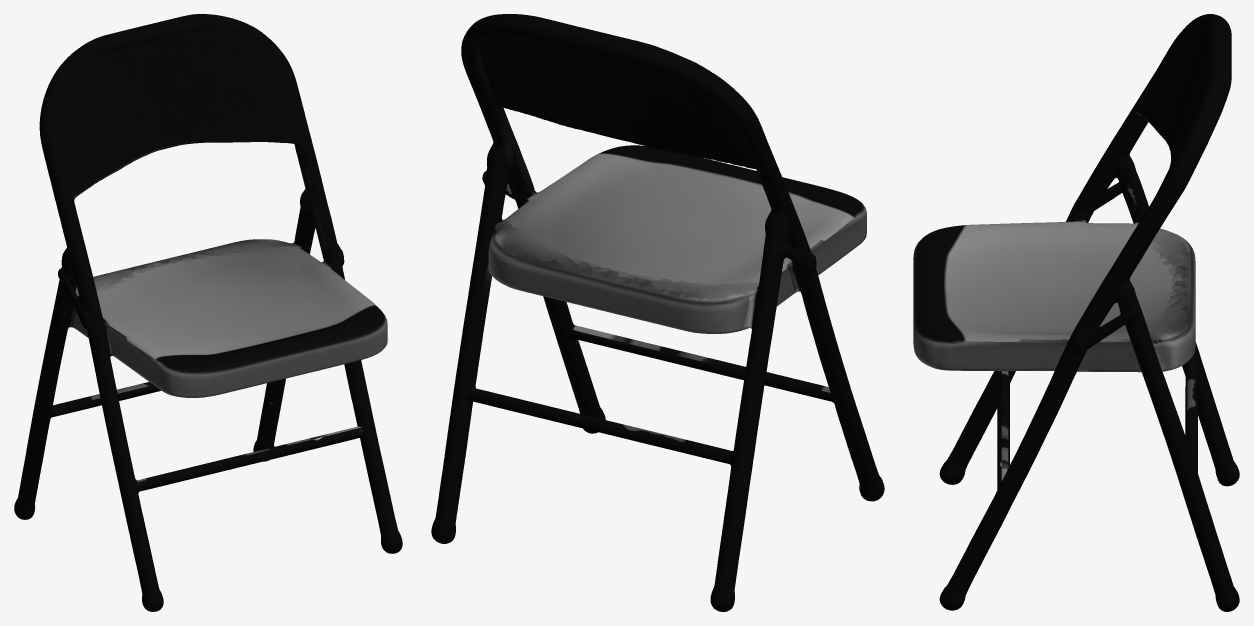
The model's file is chair__chair#4.glb.
3 views of the same model, side by side, from view 1: azimuth 30°, elevation 25°; view 2: azimuth 150°, elevation 25°; view 3: azimuth 270°, elevation 25° (orthographic). The views are drawn at different scales.
Visible parts, largest first — view 1: tmpjhzupo3v.ply; view 2: tmpjhzupo3v.ply; view 3: tmpjhzupo3v.ply.
Part boxes in pixels (left/top/right/bottom): tmpjhzupo3v.ply: left=14, top=14, right=402, bottom=611; tmpjhzupo3v.ply: left=431, top=14, right=884, bottom=611; tmpjhzupo3v.ply: left=913, top=14, right=1239, bottom=611.
Bounding box in the file's own units: 1.16 × 1.99 × 1.18.
1 material, 1 textured.
